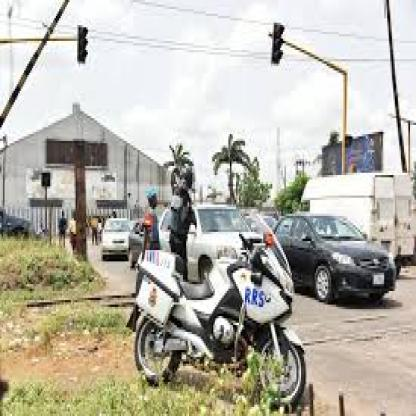car: (120, 218, 325, 407), (150, 164, 278, 300), (282, 189, 404, 312), (89, 192, 145, 265)
